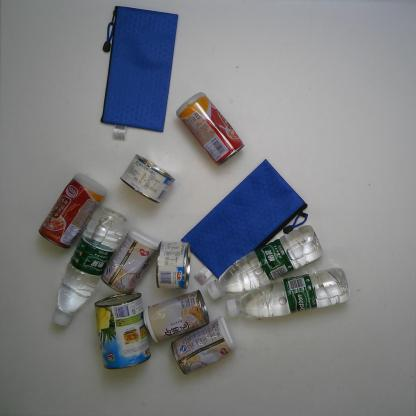Canned Food: (36, 171, 109, 251), (173, 89, 246, 168), (92, 290, 152, 372), (98, 226, 162, 298), (169, 314, 238, 376), (140, 288, 211, 345), (117, 152, 179, 207), (153, 238, 194, 291)
Drink: (46, 204, 128, 329), (204, 223, 326, 303), (224, 265, 352, 321)
Stationery: (179, 156, 310, 286), (97, 3, 180, 145)
